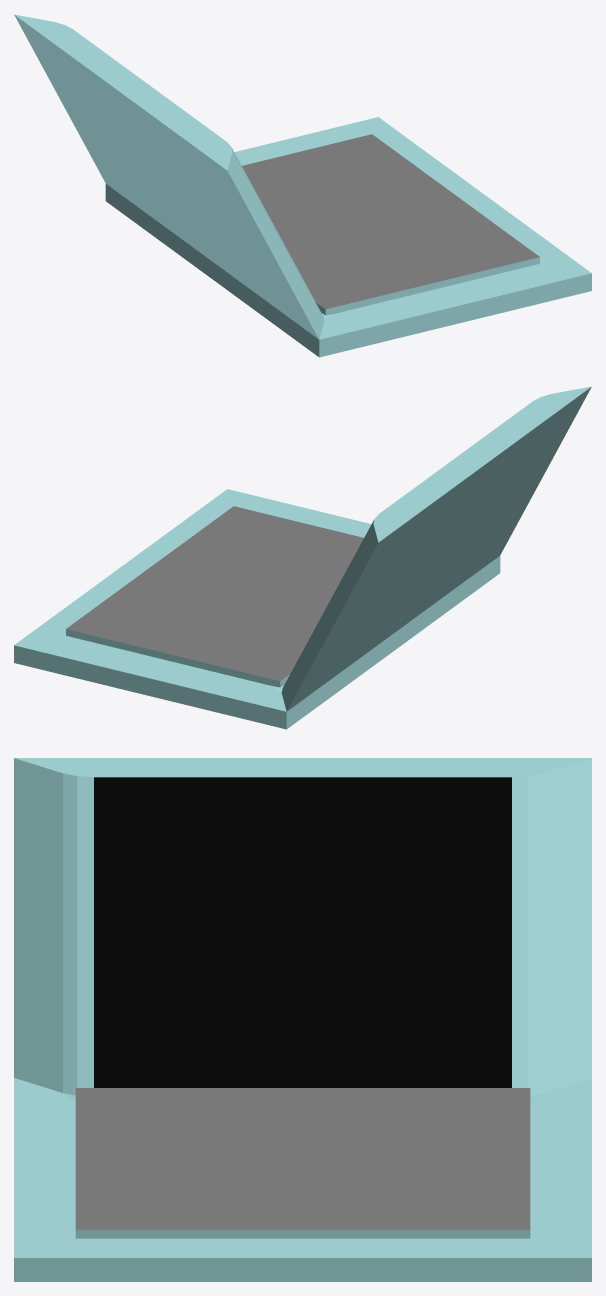
File: laptop.fbx
3 views of the same model, one above another, from view 1: azimuth 30°, elevation 25°; view 2: azimuth 150°, elevation 25°; view 3: azimuth 270°, elevation 25° (orthographic). The views are drawn at different scales.
Visible parts, largest first — view 1: laptop; view 2: laptop; view 3: laptop.
Boxes of the visible parts, x1,y1,x2,y2 form: laptop: (14, 14, 591, 357); laptop: (14, 386, 591, 729); laptop: (14, 758, 591, 1281).
Bounding box in the file's own units: 153 × 83.84 × 155.
